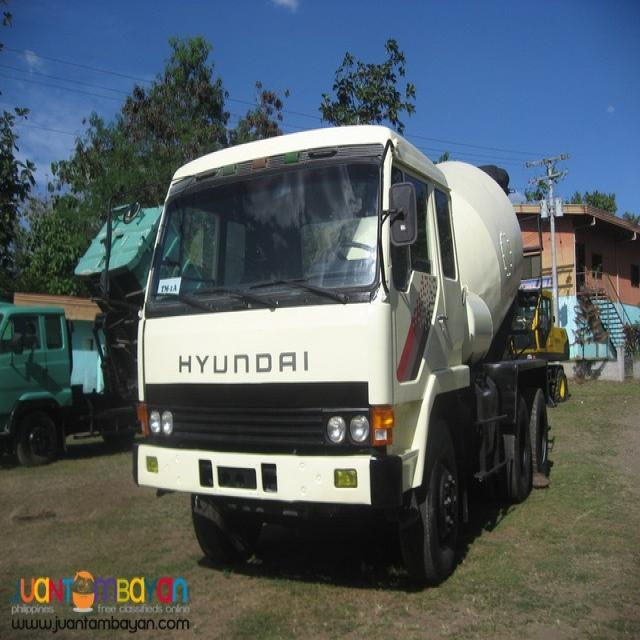Mixer Truck: (133, 126, 549, 586)
